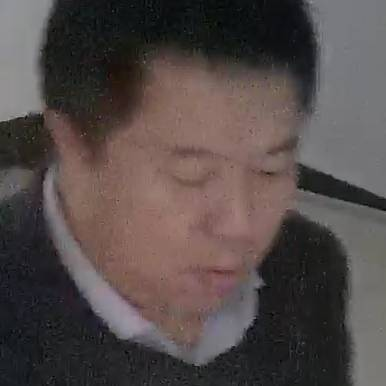cb: (54, 26, 342, 314)
